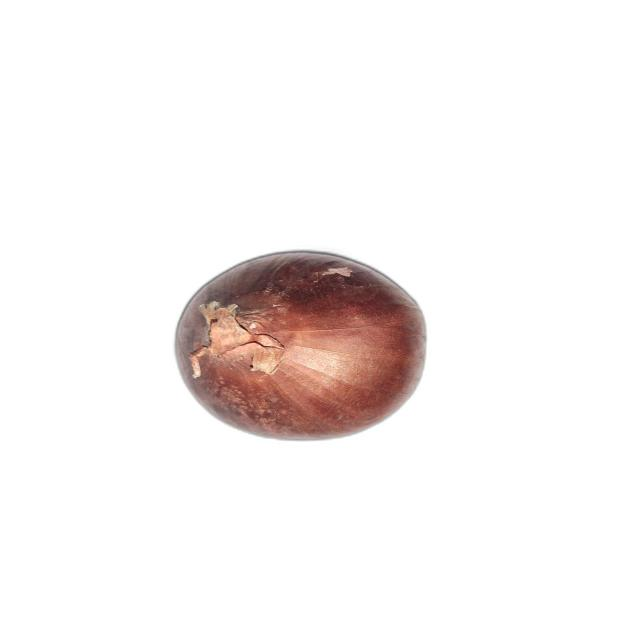onion: (174, 250, 427, 442)
